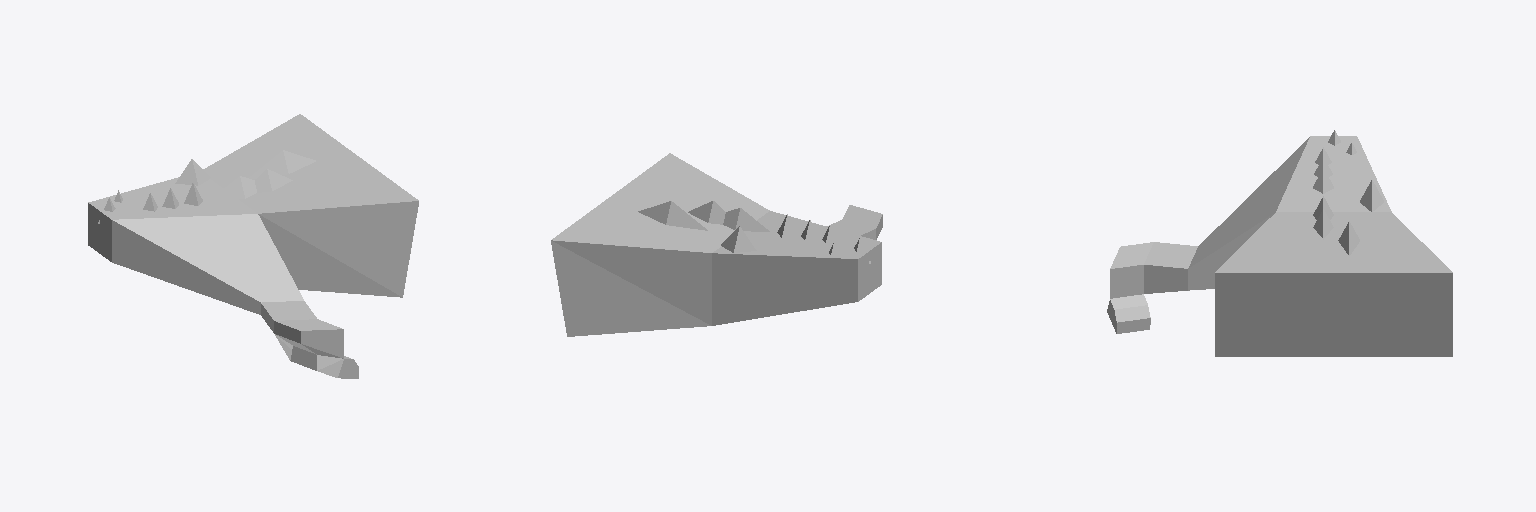
Rendered from crocodilo_part3.obj.
3 views of the same model, side by side, from view 1: azimuth 30°, elevation 25°; view 2: azimuth 150°, elevation 25°; view 3: azimuth 270°, elevation 25° (orthographic).
Visible parts, largest first — view 1: Cube.001; view 2: Cube.001; view 3: Cube.001.
Boxes of the visible parts, box(x1,y1,x2,y2) form: Cube.001: box(88, 114, 418, 378); Cube.001: box(551, 153, 882, 336); Cube.001: box(1107, 130, 1452, 356).
Size of the model in its own units: 1.56 by 0.7778 by 1.79.